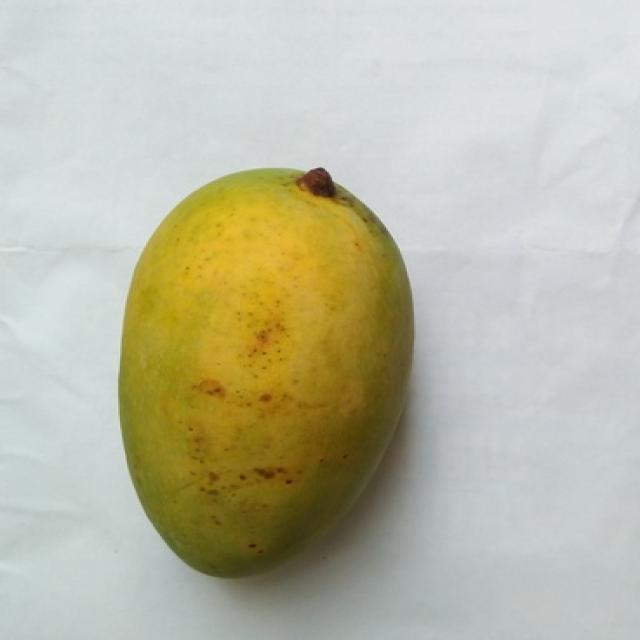Mango: (122, 170, 412, 574)
